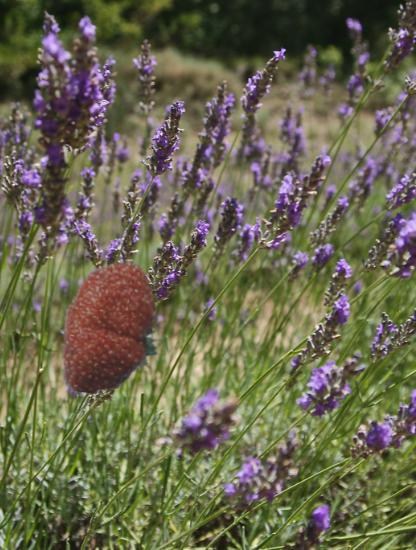Strawberry: (45, 258, 183, 396)
